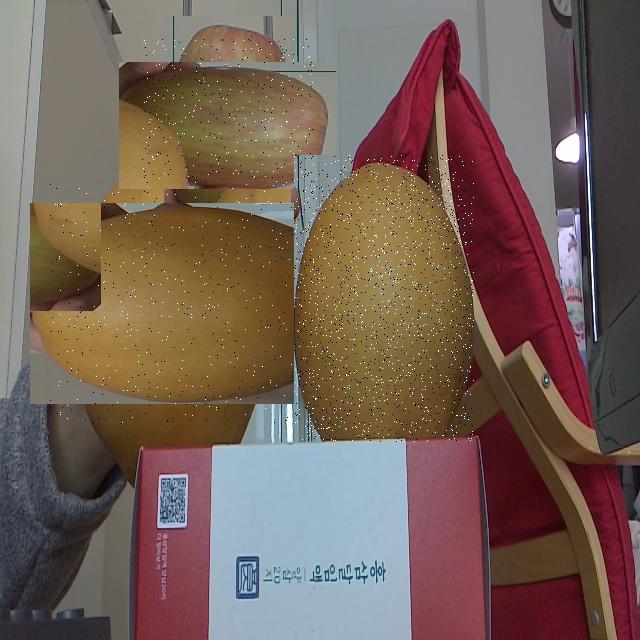apple: (141, 39, 314, 212)
pear: (50, 183, 292, 424), (294, 155, 474, 442)
